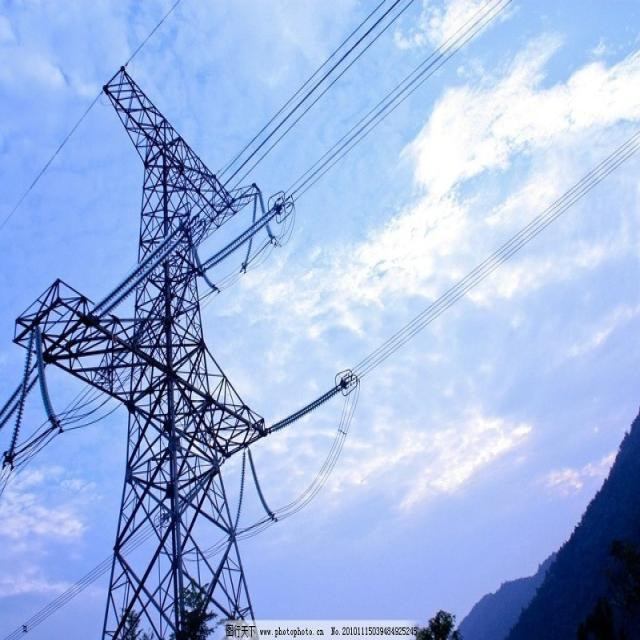non-critical vegetation: (24, 63, 320, 616)
